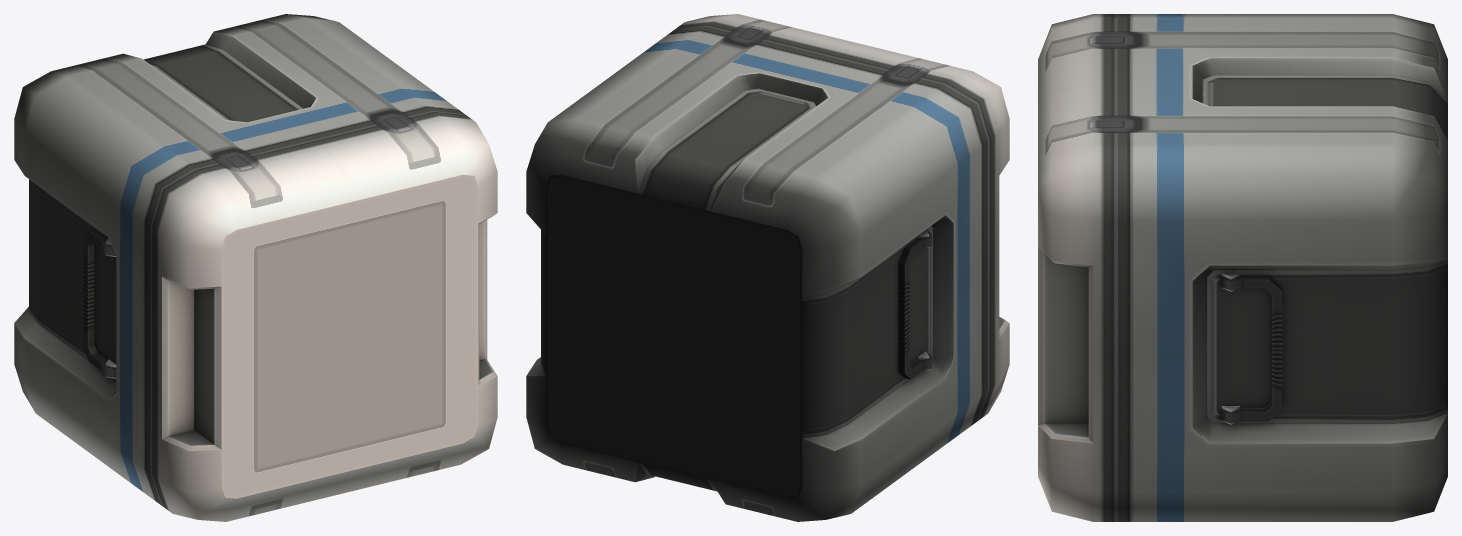
File: crate.obj
3 renders of one model, left to right at view 1: azimuth 30°, elevation 25°; view 2: azimuth 150°, elevation 25°; view 3: azimuth 270°, elevation 25°, orthographic. The views are drawn at different scales.
Parts seen in each view (by area): view 1: crate_Lid, crate; view 2: crate, crate_Lid; view 3: crate, crate_Lid.
Part boxes in pixels (box(x1,y1,x2,y2)): crate_Lid: box(153, 112, 497, 521); crate: box(14, 14, 466, 506); crate: box(526, 25, 989, 521); crate_Lid: box(676, 14, 1009, 419); crate: box(1113, 14, 1447, 521); crate_Lid: box(1038, 14, 1113, 521).
Bounding box in the file's own units: 24 × 24 × 24.
